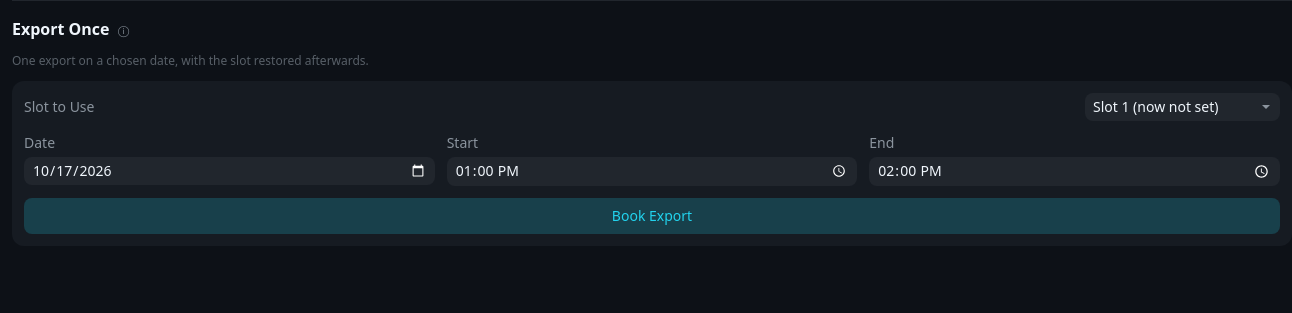
ExportOnceCard › explains a bad window without posting it
Replace the text in the time field labelled "Start" with "19:00" at (652, 171), box [447,157,857,186]
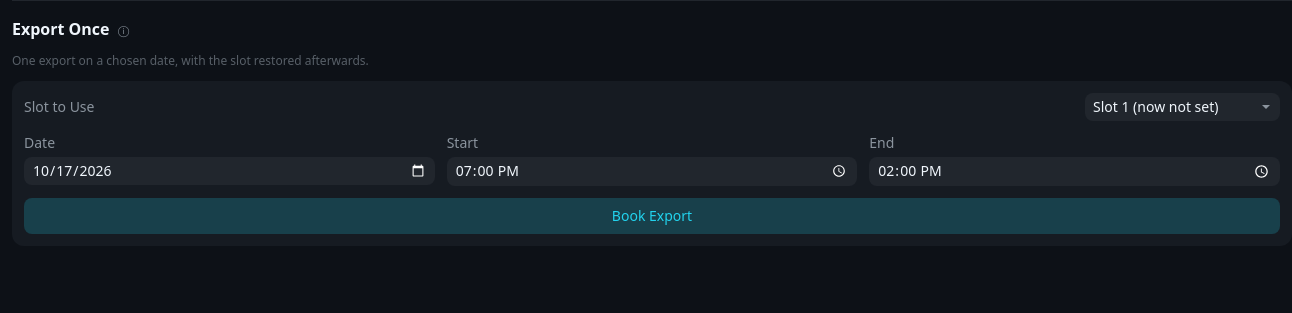
Replace the text in the time field labelled "End" with "18:00" at (1075, 171), box [869,157,1280,186]
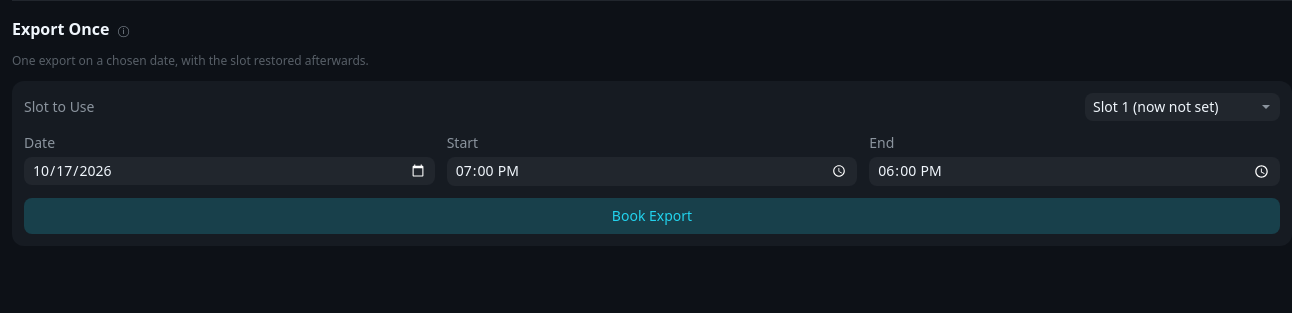
Click the button "Book Export" at (652, 216), box [24,198,1280,234]
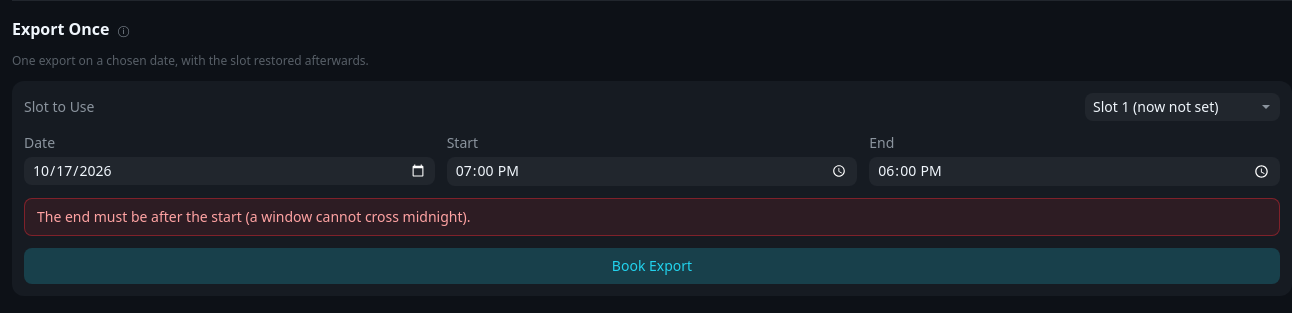
Expected: the message shows "end must be after the start", [37,207,470,226]
